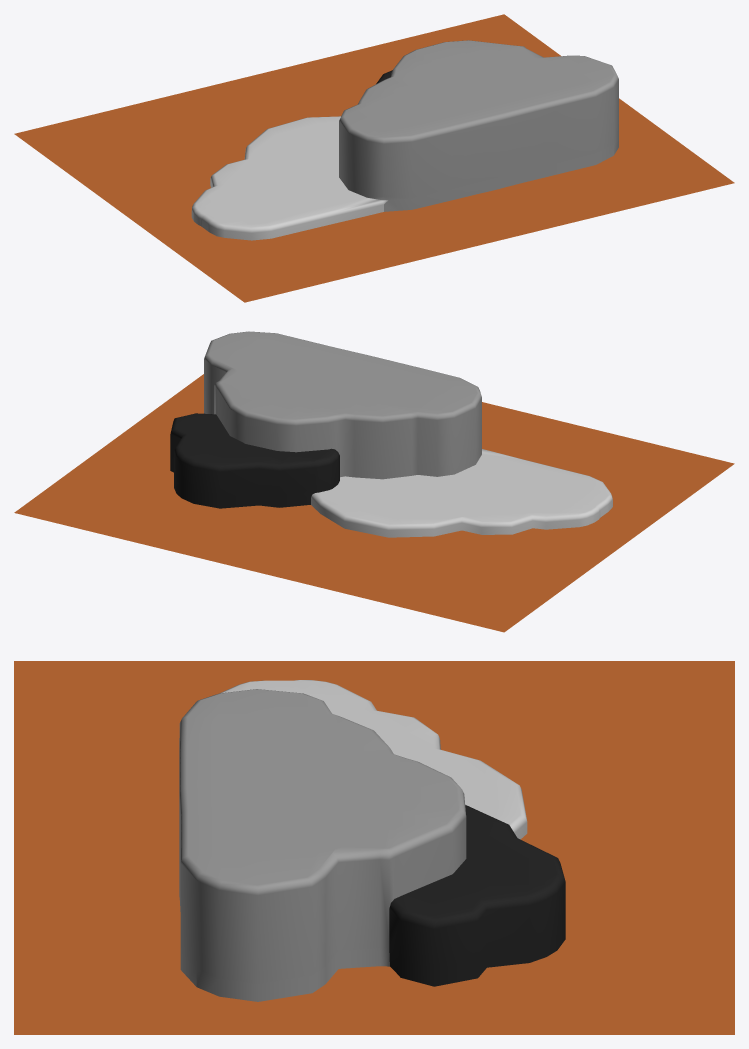
The model's file is Clouds.dae.
3 renders of one model, top to bottom at view 1: azimuth 30°, elevation 25°; view 2: azimuth 150°, elevation 25°; view 3: azimuth 270°, elevation 25°, orthographic. The views are drawn at different scales.
Visible parts, largest first — view 1: pPlane2, pCube6; view 2: pCube6, pPlane2; view 3: pPlane2, pCube6.
Boxes of the visible parts, bbox=[...] form: pPlane2: bbox=[14, 14, 734, 302]; pCube6: bbox=[191, 40, 618, 240]; pCube6: bbox=[170, 331, 612, 537]; pPlane2: bbox=[14, 374, 734, 632]; pPlane2: bbox=[14, 661, 734, 1034]; pCube6: bbox=[179, 680, 565, 1001].
Size of the model in its own units: 4.8 by 0.7871 by 3.91.
